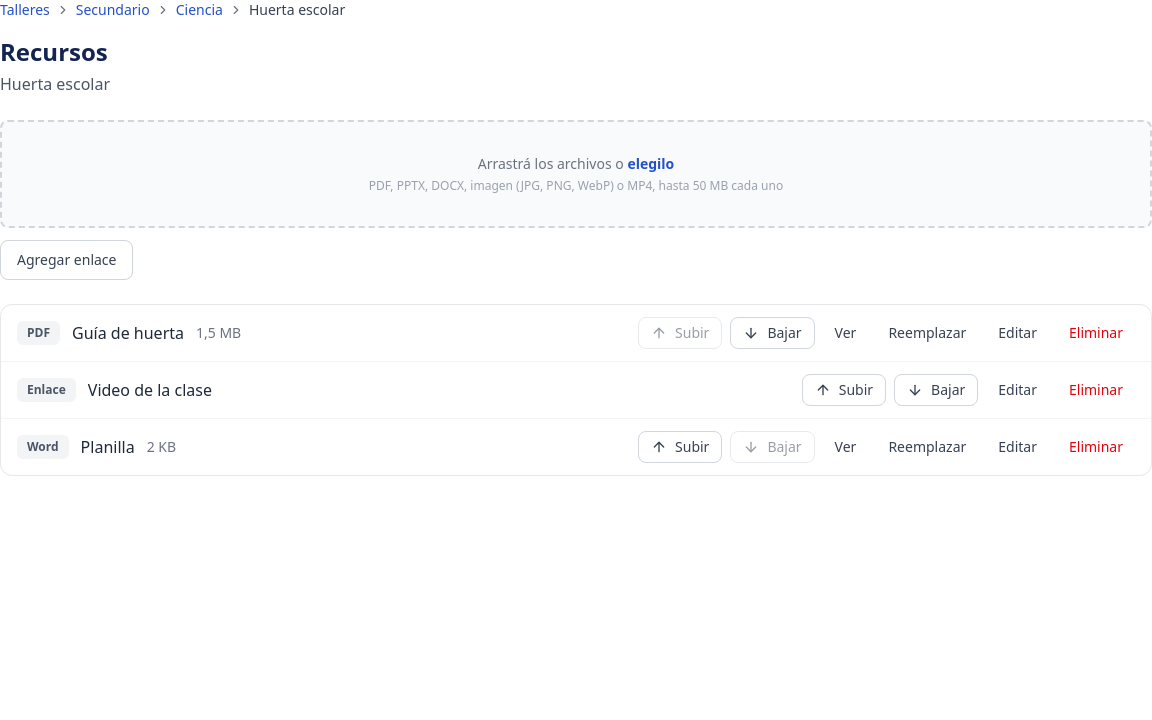
Test: RecursosPage: alta de enlaces (criterio 2) › rechaza una URL que no es https:// y no guarda
Check: the text "Guía de huerta" is shown, box x1=72 y1=321 x2=184 y2=345
Step 1. Click the button "Agregar enlace" → click(67, 260), box x1=0 y1=240 x2=134 y2=280
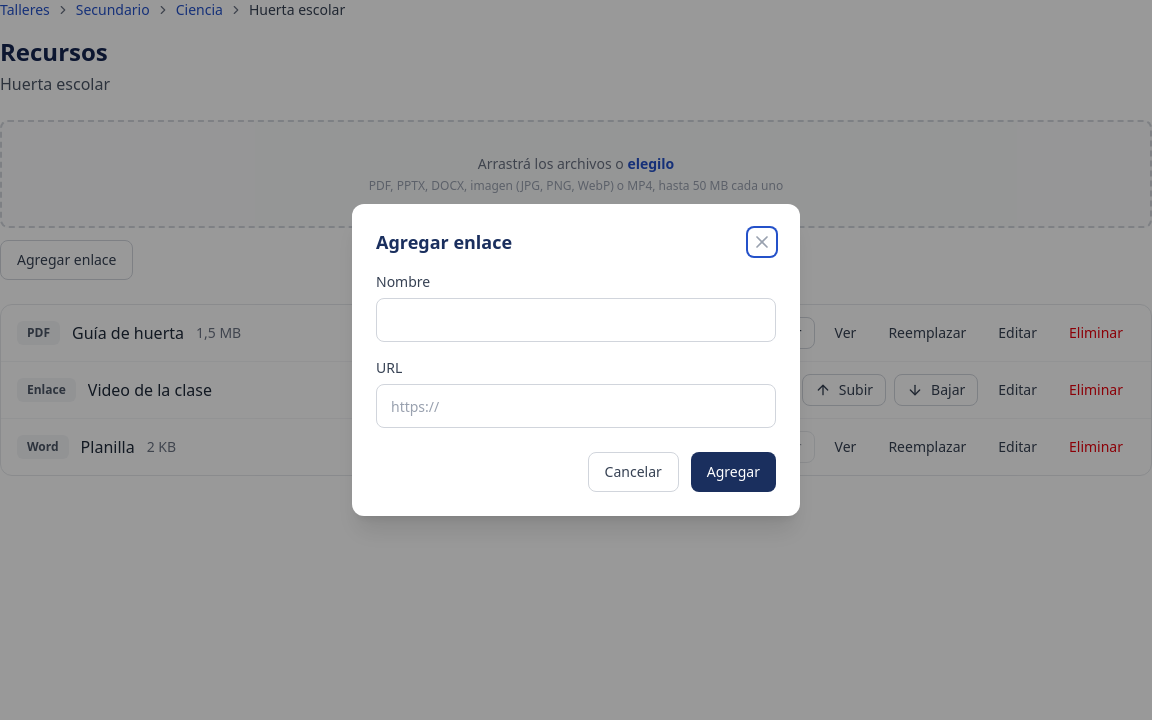
Step 2. Type "Sitio" into the field labelled "Nombre" → (576, 320), box x1=376 y1=298 x2=776 y2=342
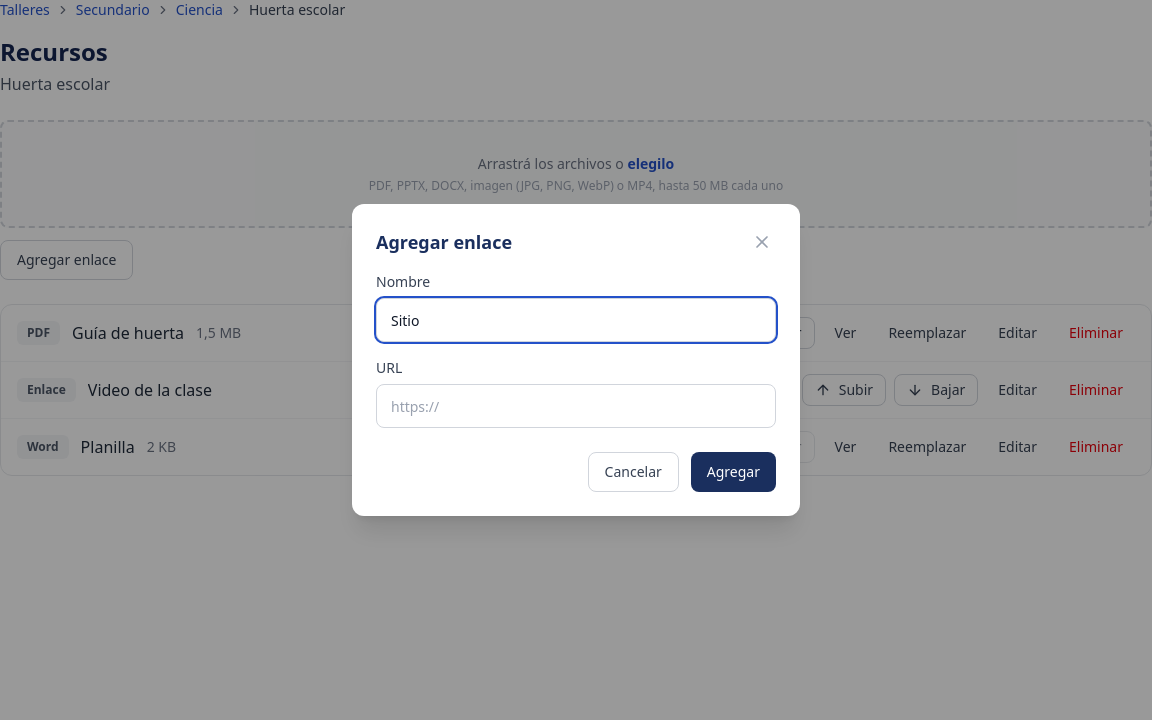
Step 3. Type "http://example.com" into the field labelled "URL" → (576, 406), box x1=376 y1=384 x2=776 y2=428
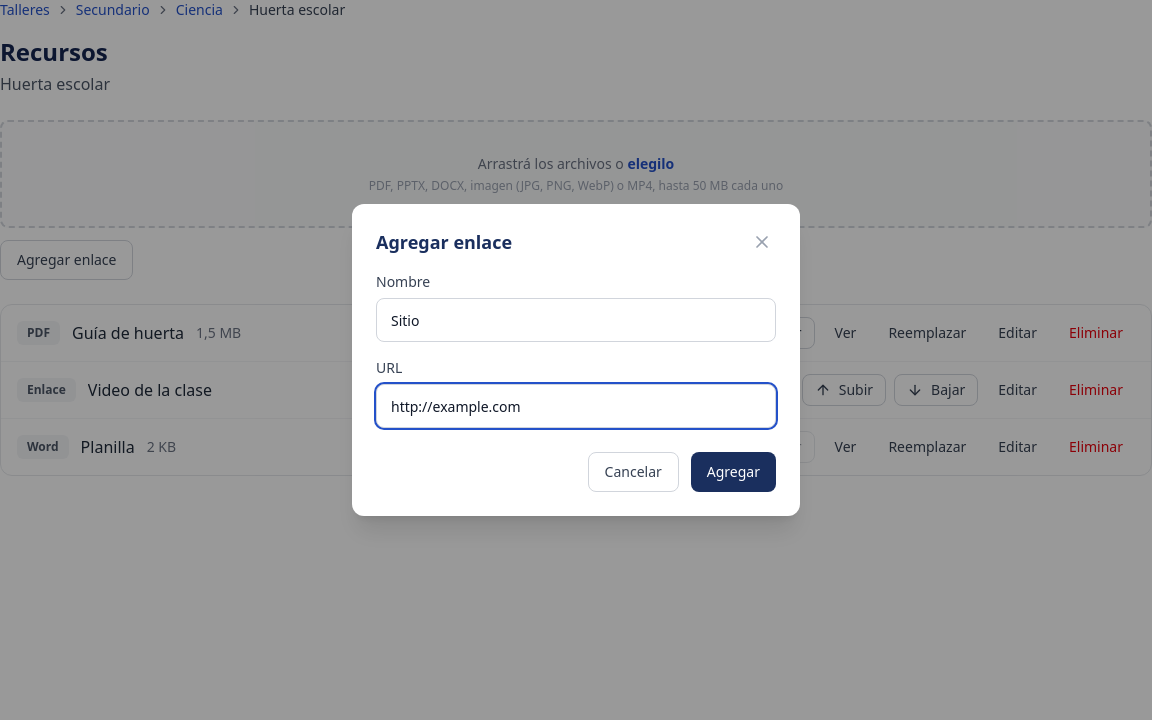
Step 4. Click the button "Agregar" → click(733, 472), box x1=691 y1=452 x2=776 y2=492
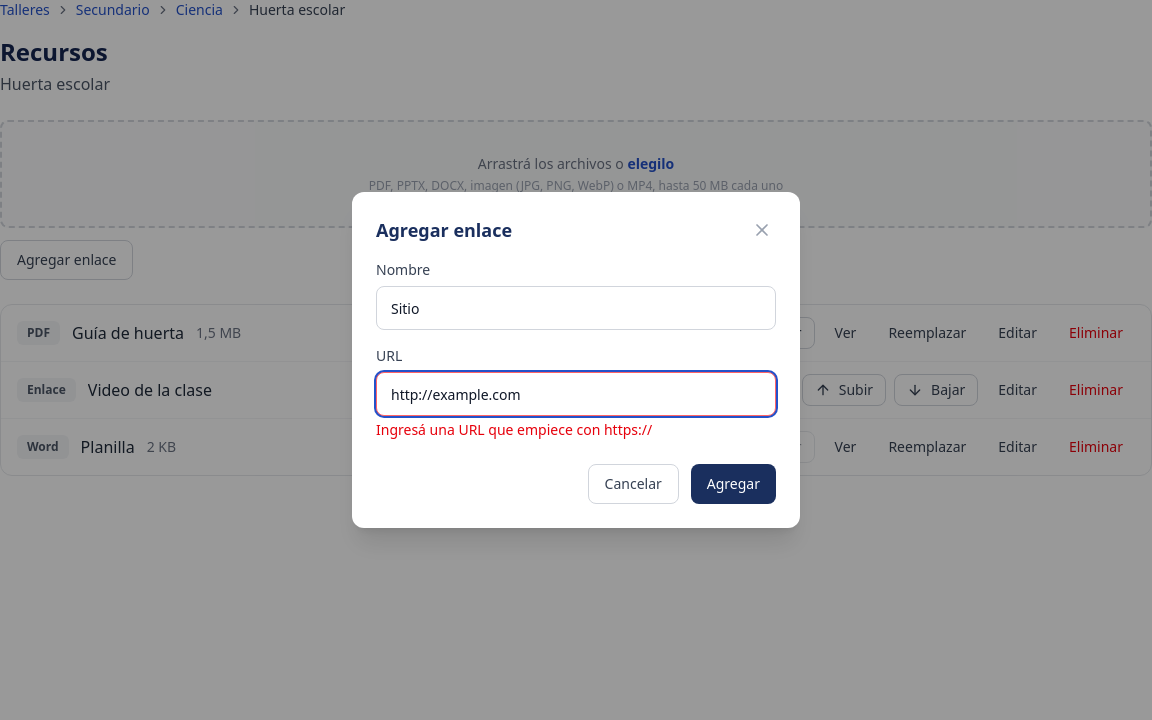
Check: the message "Ingresá una URL que empiece con https://" is shown, box x1=376 y1=420 x2=652 y2=439
